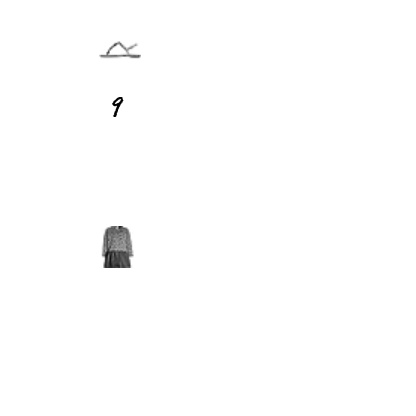9: (103, 91, 131, 119)
Dress: (96, 226, 138, 268)
Sandal: (99, 28, 141, 70)
